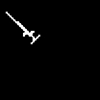double_crochet: (6, 12, 39, 43)
